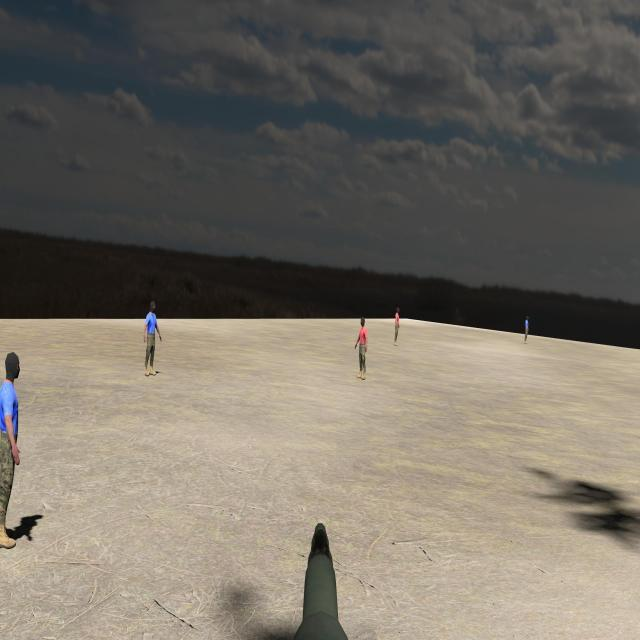Human: (0, 353, 21, 552), (144, 300, 161, 377), (355, 317, 368, 379)
